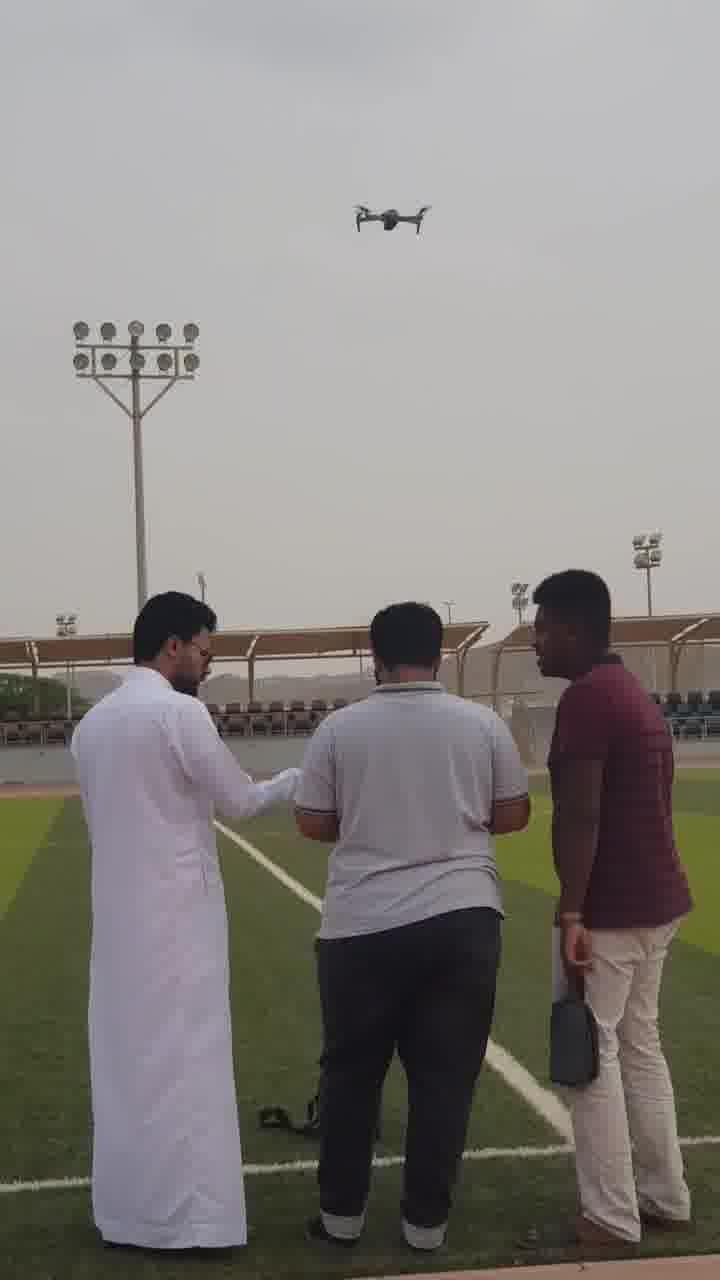drone: (342, 194, 435, 242)
